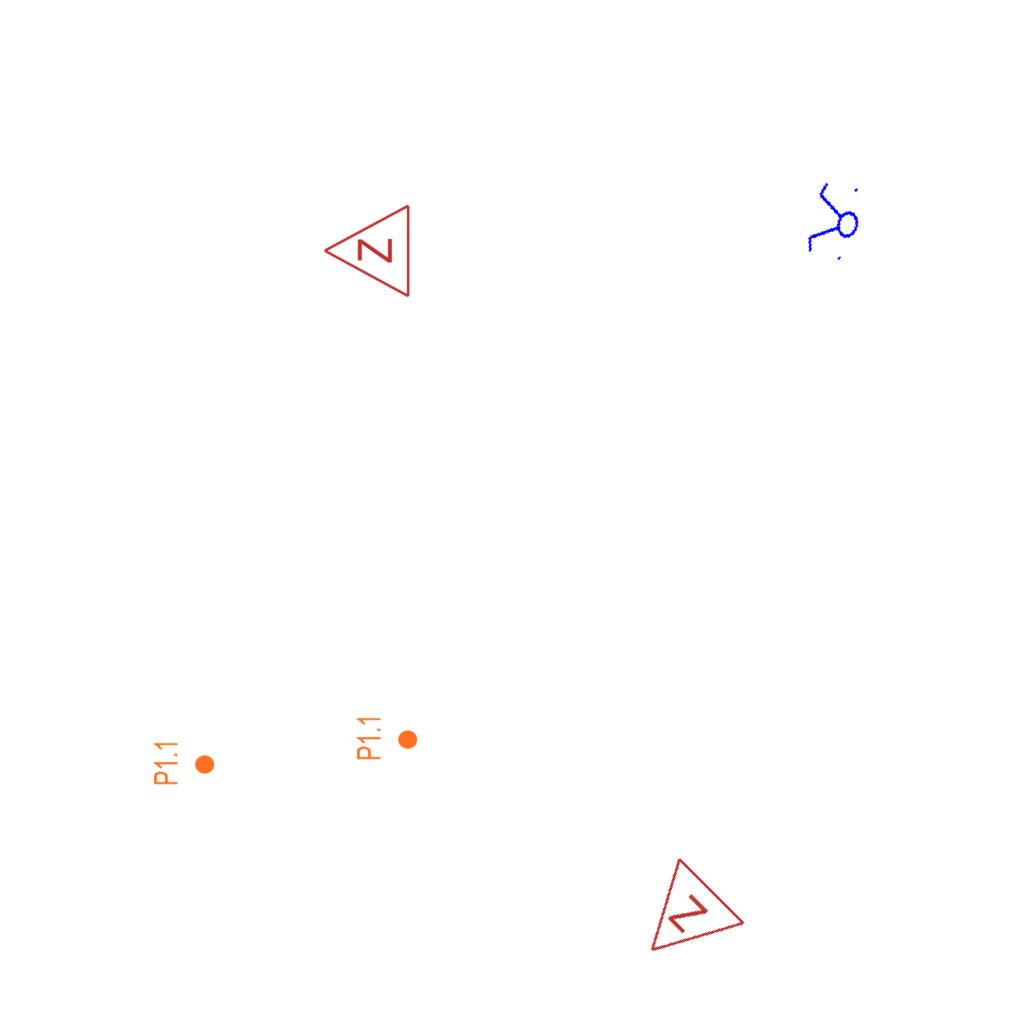Downlight_LED_Einbauleuchten_Flur: (152, 740, 216, 786), (355, 715, 419, 761)
Serienschalter: (801, 175, 869, 269)
Zimmersignalleuchte: (612, 850, 754, 992), (317, 203, 417, 301)
